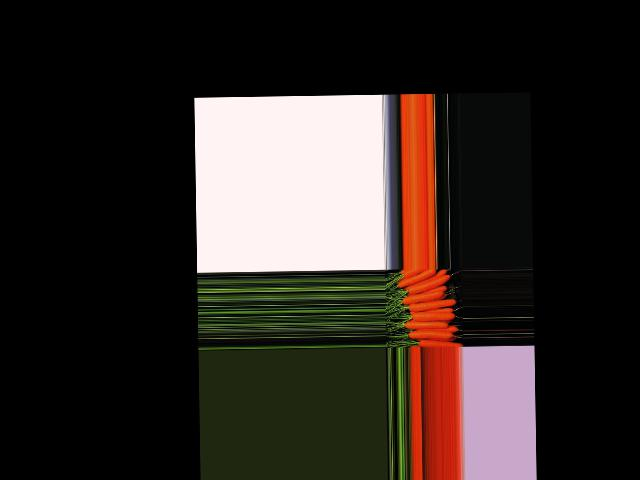carrot: (398, 274, 440, 283)
